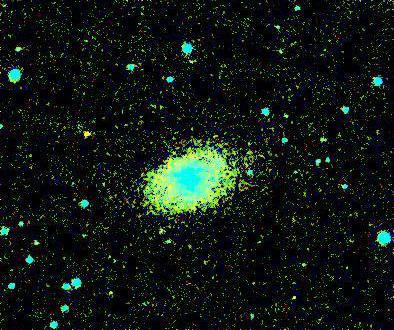star: (70, 119, 100, 149)
